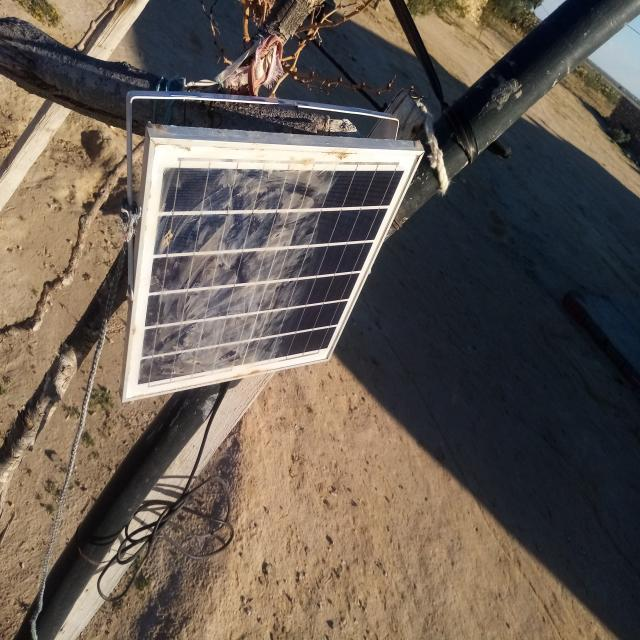faulty: (122, 142, 422, 398)
